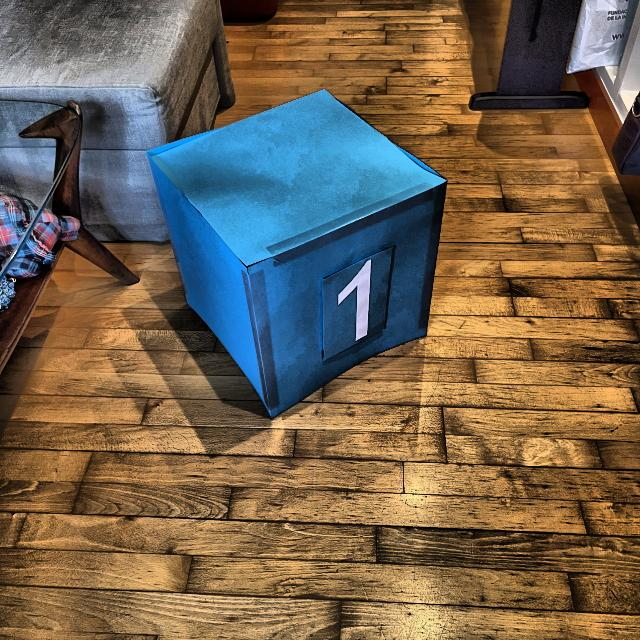blue box: (140, 84, 454, 423)
one: (332, 258, 377, 343)
